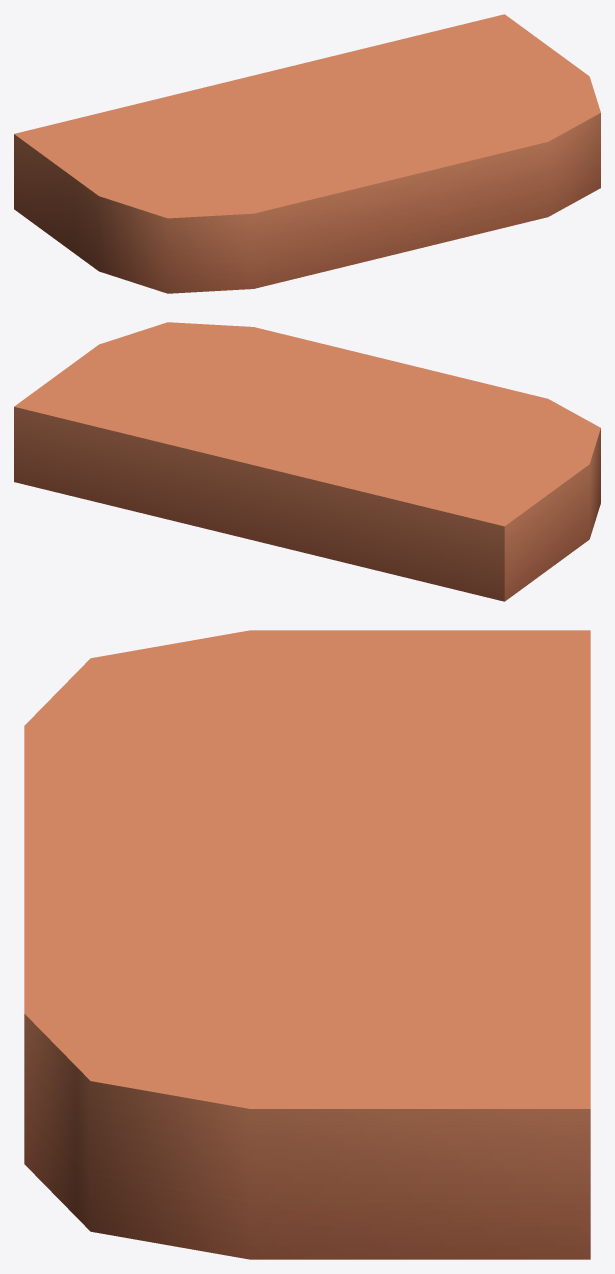
The model's file is block-borders.glb.
3 views of the same model, one above another, from view 1: azimuth 30°, elevation 25°; view 2: azimuth 150°, elevation 25°; view 3: azimuth 270°, elevation 25° (orthographic). The views are drawn at different scales.
Visible parts, largest first — view 1: block-borders; view 2: block-borders; view 3: block-borders.
Part boxes in pixels (box(x1,y1,x2,y2)): block-borders: box(14, 14, 600, 293); block-borders: box(14, 322, 600, 601); block-borders: box(24, 630, 590, 1259).
Size of the model in its own units: 0.9999 by 0.1467 by 0.4999.
1 material, 1 textured.
